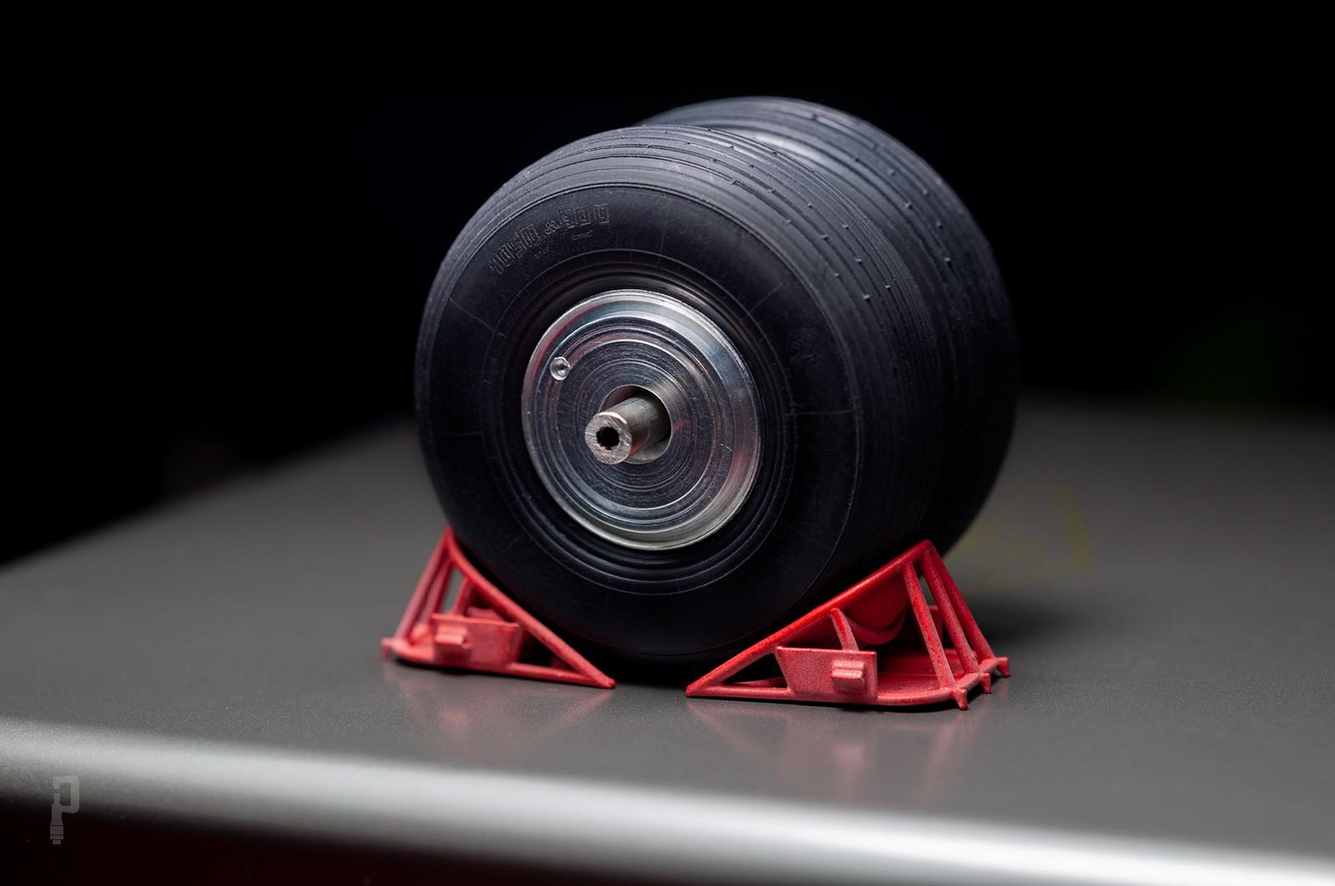chock: (685, 540, 1008, 711), (380, 524, 622, 692)
wheel: (412, 123, 949, 693), (583, 98, 1017, 642)
